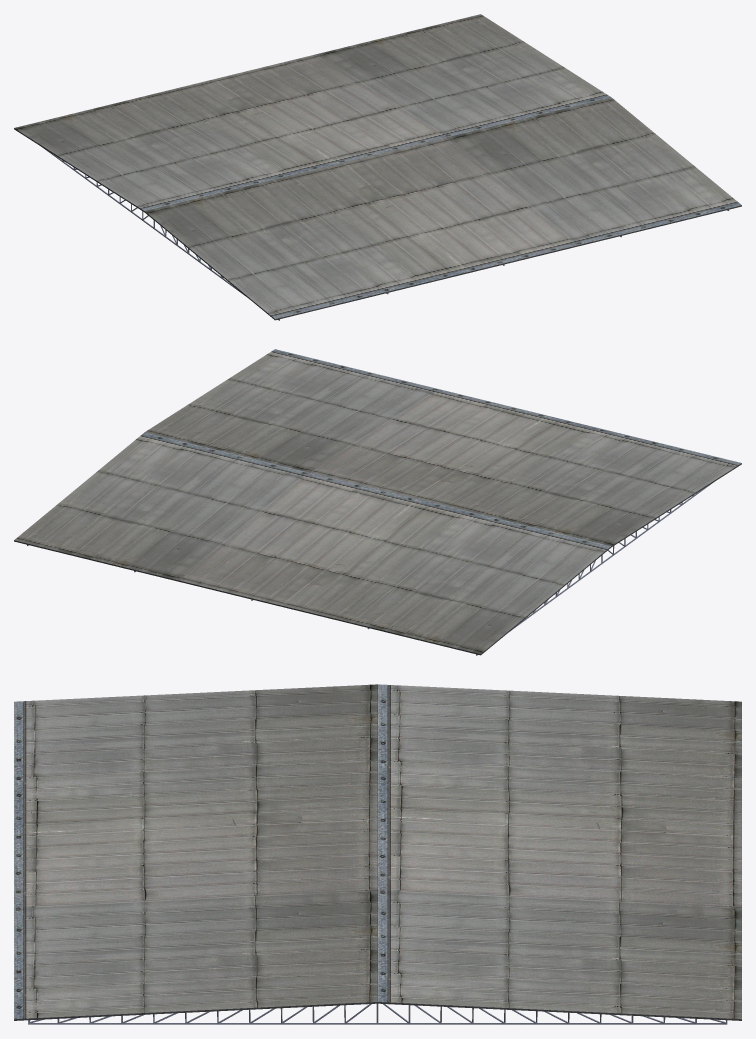
The model's file is WareMedium_Roof.glb.
3 views of the same model, one above another, from view 1: azimuth 30°, elevation 25°; view 2: azimuth 150°, elevation 25°; view 3: azimuth 270°, elevation 25° (orthographic). The views are drawn at different scales.
Visible parts, largest first — view 1: WareMedium_Roof, WareMedium_Detail; view 2: WareMedium_Roof, WareMedium_Detail; view 3: WareMedium_Roof, WareMedium_Detail.
Part boxes in pixels (x1,y1,x2,y2): WareMedium_Roof: (14, 14, 741, 320); WareMedium_Detail: (42, 147, 729, 320); WareMedium_Roof: (14, 349, 741, 655); WareMedium_Detail: (27, 482, 713, 655); WareMedium_Roof: (14, 684, 741, 1020); WareMedium_Detail: (28, 1003, 727, 1024).
Bounding box in the file's own units: 38.92 × 2.68 × 37.7.
4 materials, 4 textured.
